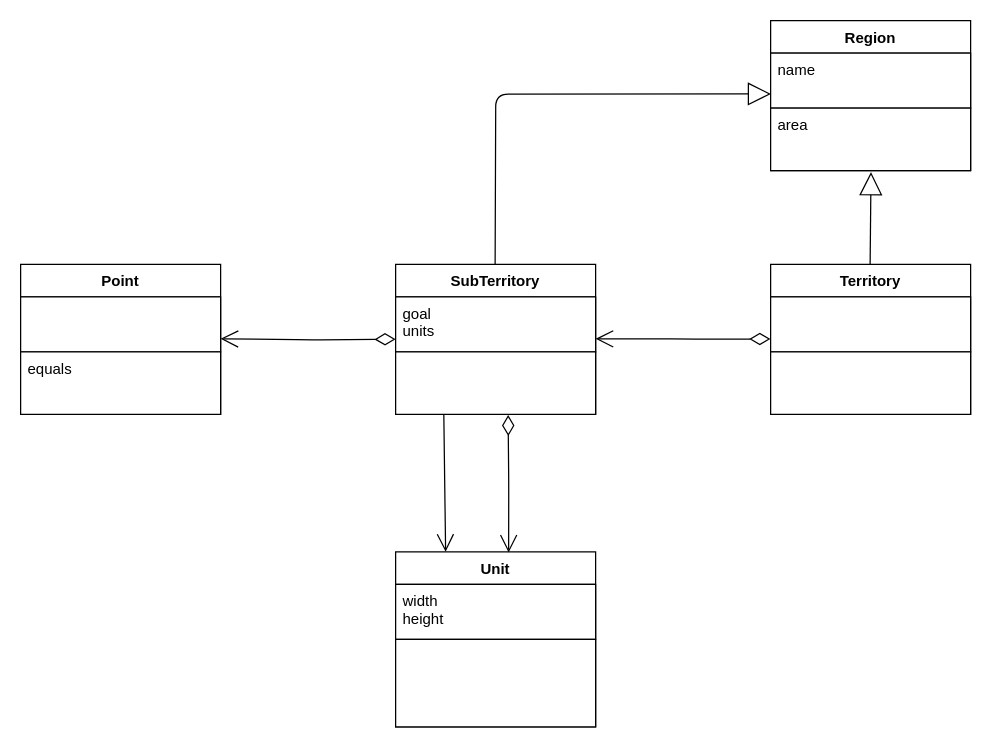
This 991x748 diagram has some shape labels left out. The shapes that lost their labels are listed below. From the top down, each one's centre as x and y in pixels, then its label:
pixel 120 324: x y
pixel 870 324: subTerritories
pixel 495 382: hull
pixel 870 382: subGoals
pixel 495 682: left right top bottom
